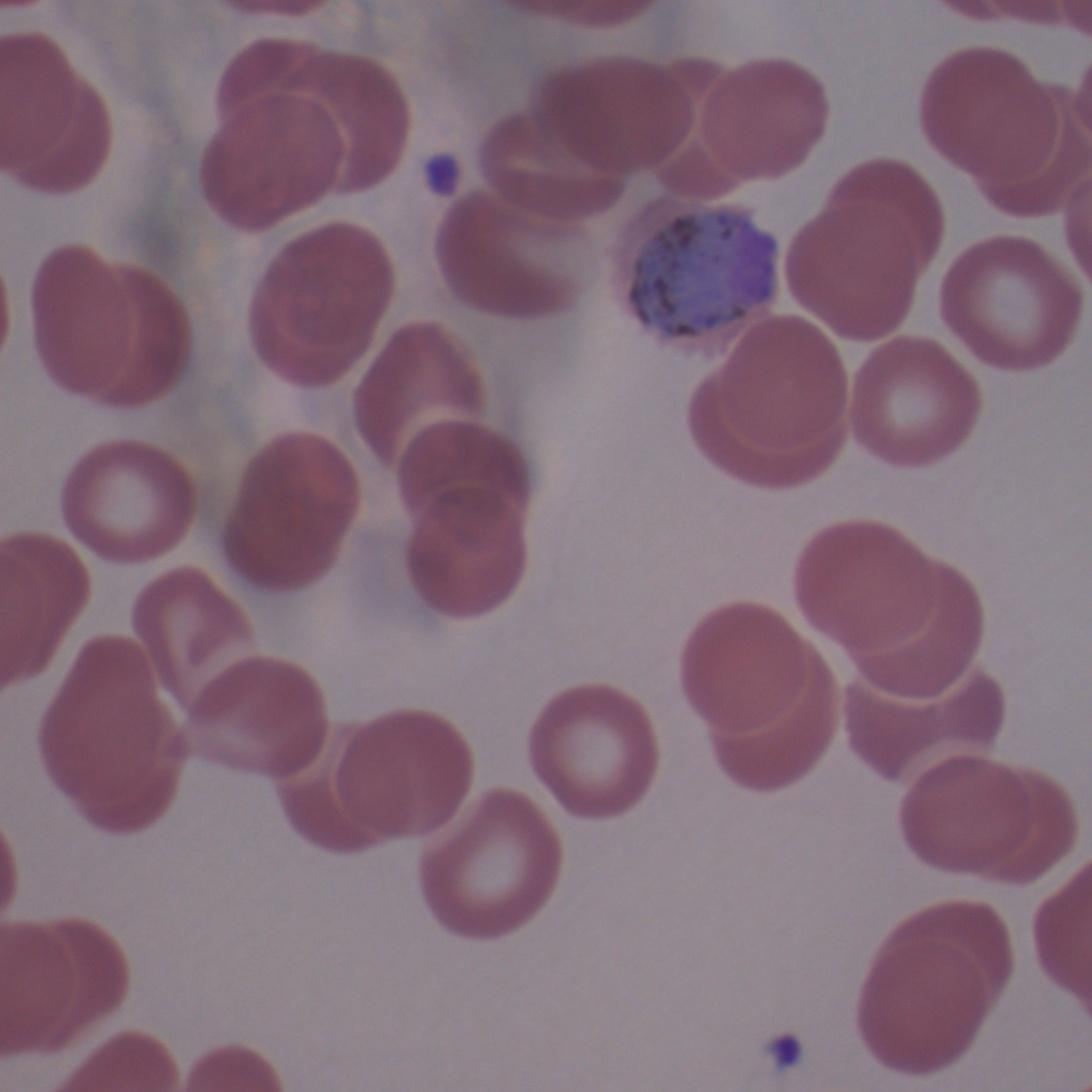Infected: (612, 192, 777, 340)
Uninfected: (41, 634, 174, 805), (787, 186, 932, 340), (224, 431, 363, 591), (263, 44, 408, 196), (705, 314, 849, 464), (425, 788, 563, 944), (205, 87, 352, 226), (857, 546, 987, 698), (921, 46, 1059, 189), (260, 221, 395, 366), (936, 234, 1080, 368), (797, 520, 937, 657), (528, 678, 658, 824), (354, 320, 484, 465), (335, 703, 468, 844), (858, 333, 988, 475), (860, 932, 995, 1068), (543, 58, 697, 177), (33, 241, 143, 407), (677, 383, 842, 493), (692, 60, 830, 189), (437, 193, 577, 319), (845, 664, 999, 778), (681, 600, 812, 733), (191, 655, 328, 781), (281, 713, 400, 852), (61, 438, 194, 560), (90, 256, 190, 414), (133, 564, 250, 697), (482, 109, 624, 218), (900, 754, 1031, 866), (398, 417, 524, 523), (2, 534, 86, 692), (835, 156, 947, 271), (3, 32, 90, 176), (2, 918, 82, 1067), (411, 518, 524, 618), (185, 1045, 282, 1089)
